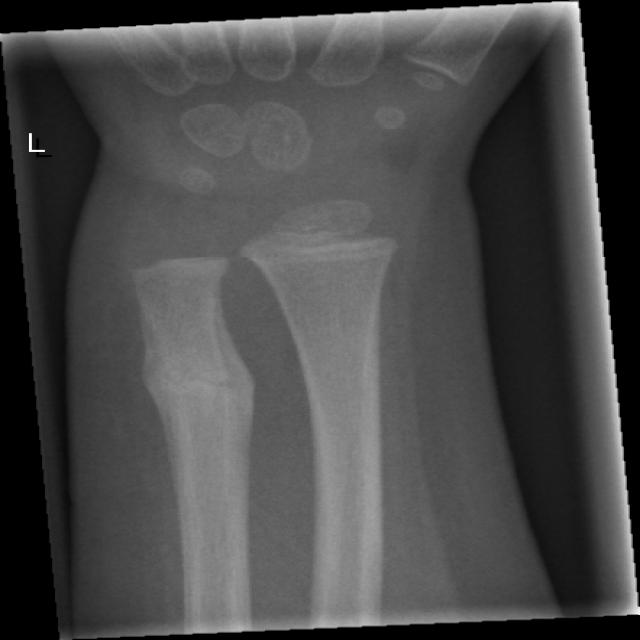ulna fracture: (114, 311, 279, 465)
